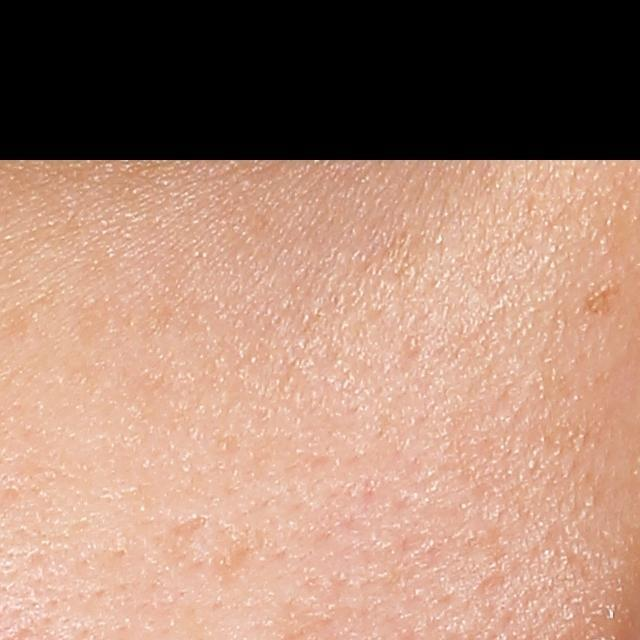atrophic_scar: (160, 513, 205, 549)
melasma: (575, 278, 625, 320)
